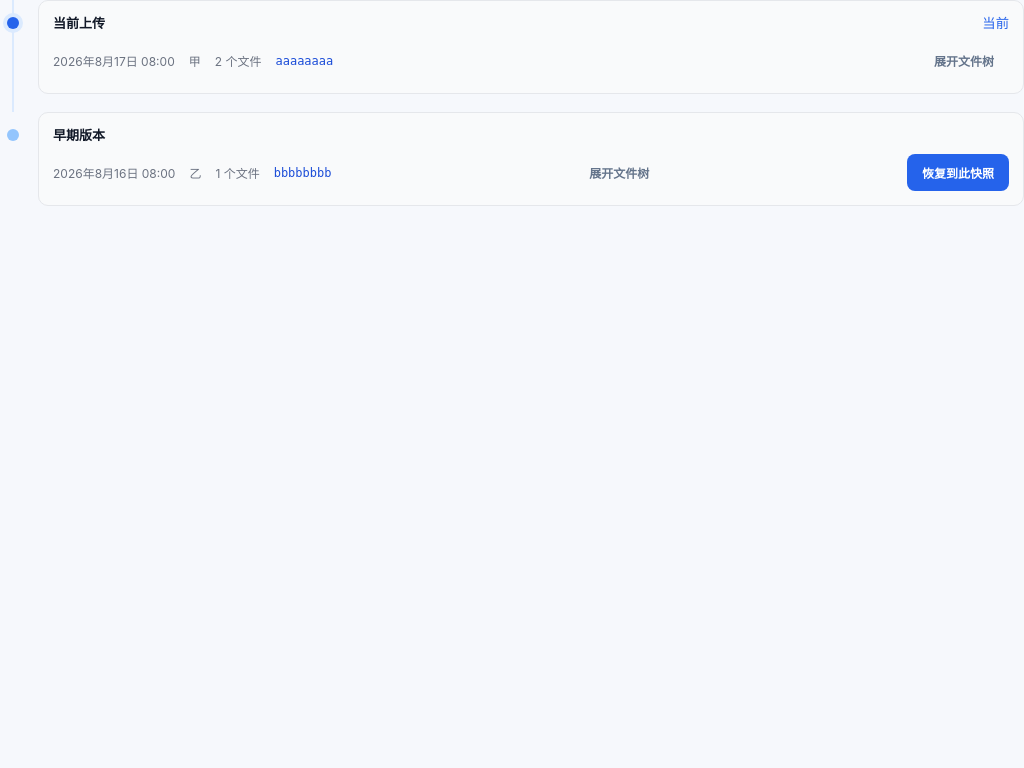
Test: SnapshotTimeline › 确认恢复后展示结果与 skipped 清单并刷新数据
Expected: the text "早期版本" is shown, [53, 125, 105, 144]
Click the button "恢复到此快照": (958, 172) [907, 154, 1009, 191]
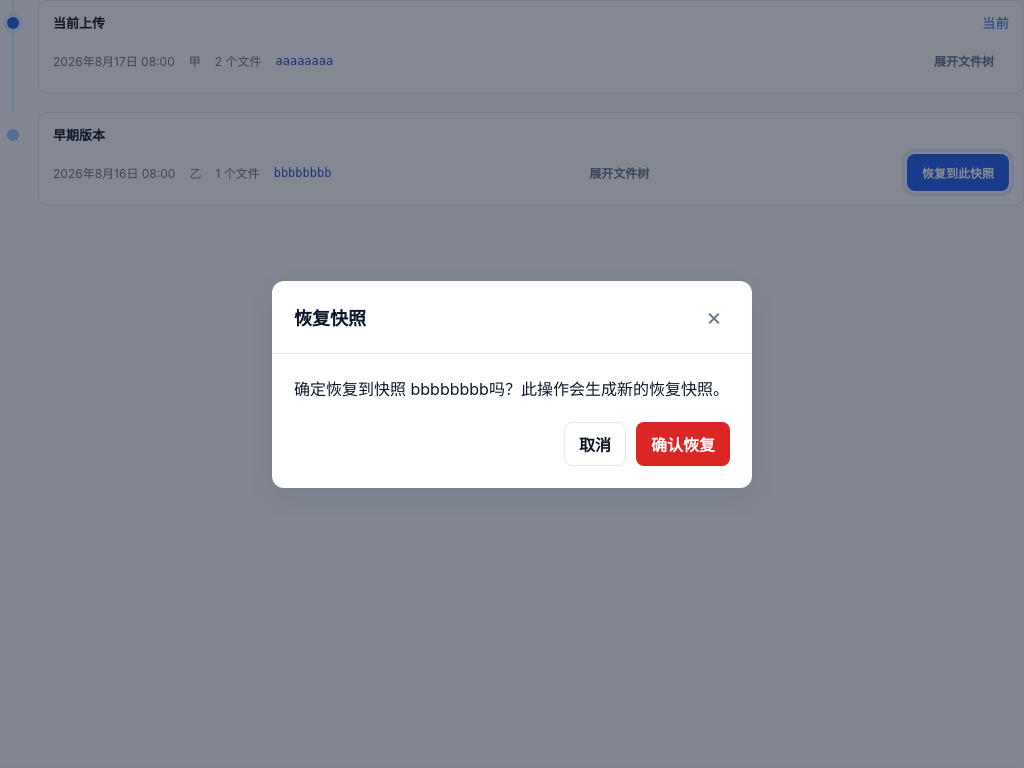
Click the button "确认恢复": (683, 444) [636, 422, 730, 466]
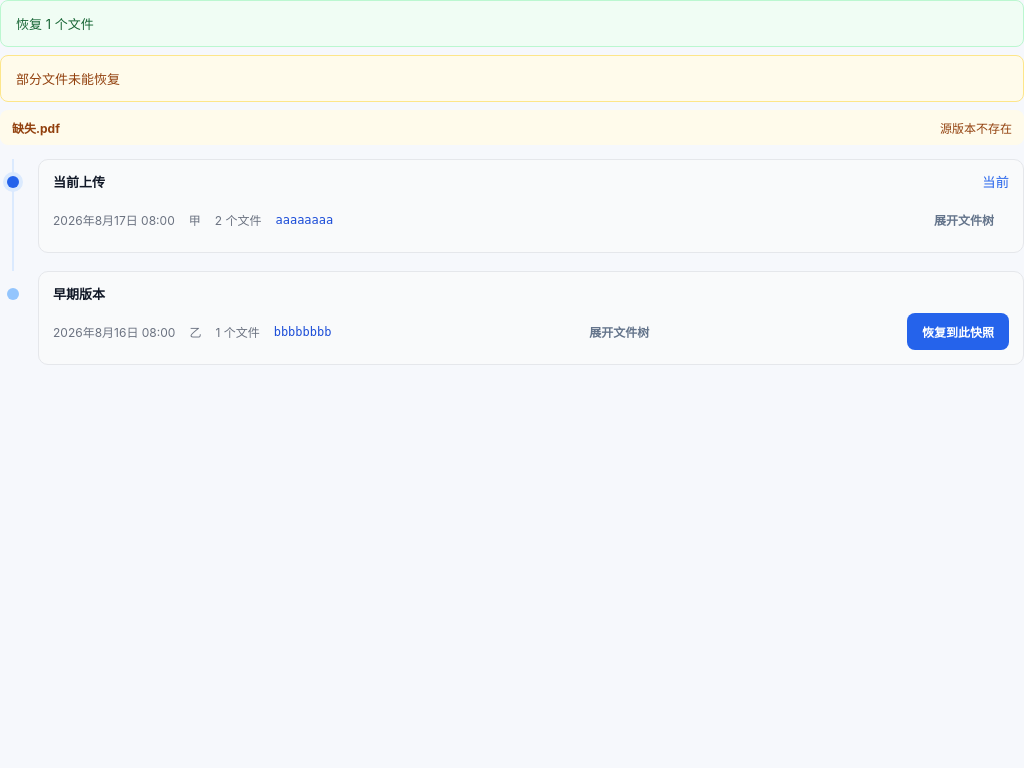
Expected: the text "恢复 1 个文件" is shown, [16, 14, 94, 33]
Expected: the text "部分文件未能恢复" is shown, [16, 69, 120, 88]
Expected: the text "缺失.pdf" is shown, [12, 119, 60, 136]
